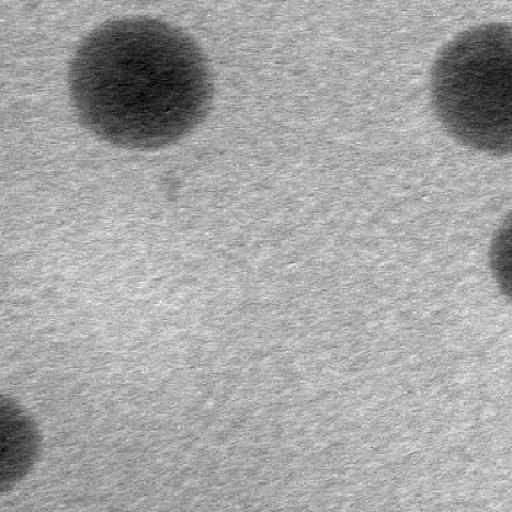Nanoparticles: (64, 11, 214, 153), (428, 18, 512, 156), (0, 395, 42, 493), (487, 212, 512, 302)
